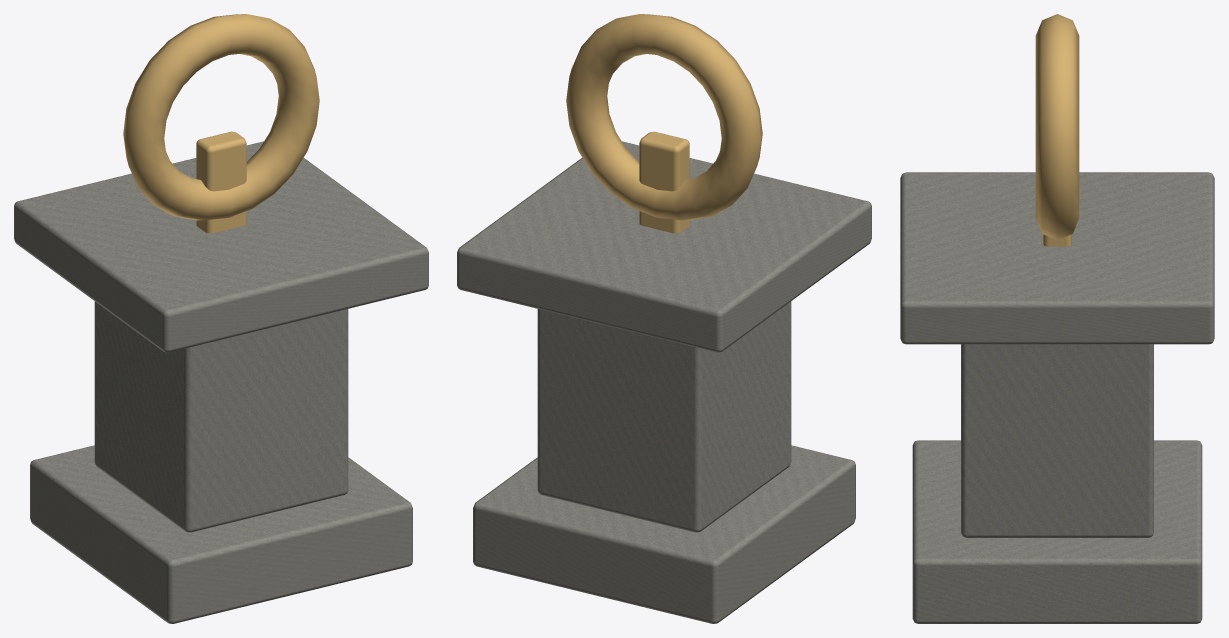
File: adventurers-tavern-and-guild-hall-guild-crest-plinth-ccd86fd8__24755.glb
The picture shows the model from 3 angles, left to right: view 1: azimuth 30°, elevation 25°; view 2: azimuth 150°, elevation 25°; view 3: azimuth 270°, elevation 25°; orthographic projection. The views are drawn at different scales.
Parts seen in each view (by area): view 1: guild-crest-plinth; view 2: guild-crest-plinth; view 3: guild-crest-plinth.
Boxes of the visible parts, left/top/right/bottom form: guild-crest-plinth: left=14, top=14, right=428, bottom=623; guild-crest-plinth: left=457, top=14, right=871, bottom=623; guild-crest-plinth: left=900, top=14, right=1214, bottom=623.
Bounding box in the file's own units: 0.65 × 1.24 × 0.65.
2 materials, 1 textured.
